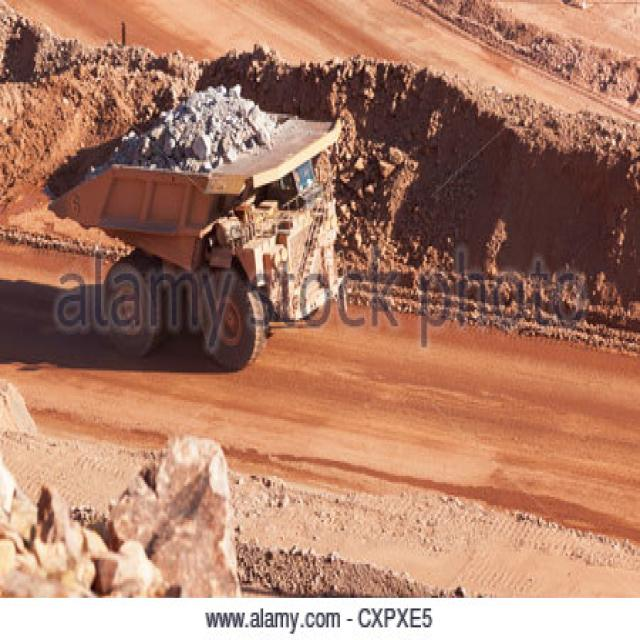dump_truck: (58, 80, 364, 383)
